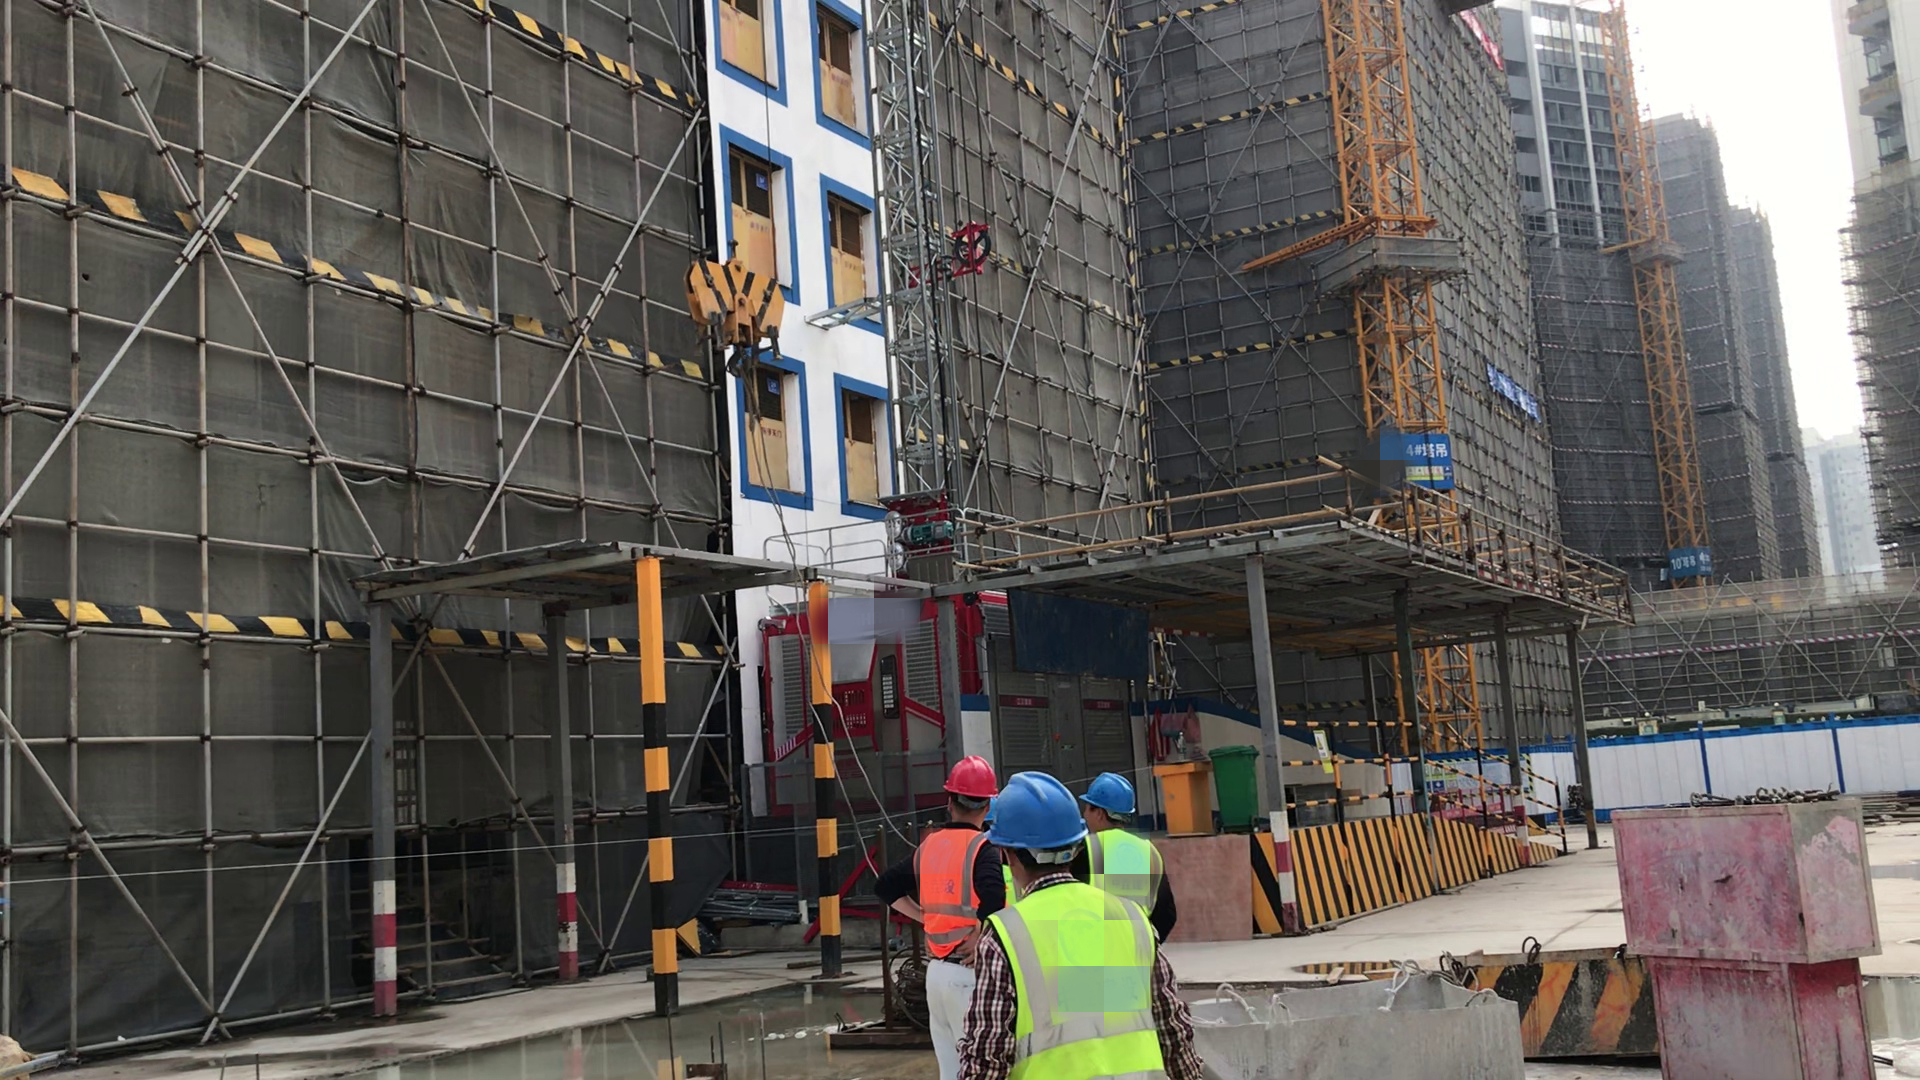fence: (1273, 707, 1587, 875)
helmet: (985, 773, 1088, 849), (1075, 770, 1147, 823), (943, 755, 998, 805)
hook: (678, 237, 808, 357)
hopper: (1184, 964, 1528, 1080), (1434, 942, 1687, 1078)
person: (981, 769, 1162, 1080), (908, 744, 1002, 1080), (1077, 743, 1182, 936)
slogan: (1481, 360, 1578, 430), (1304, 713, 1334, 782)
vest: (983, 878, 1158, 1080), (918, 826, 997, 966), (1081, 828, 1169, 919)
